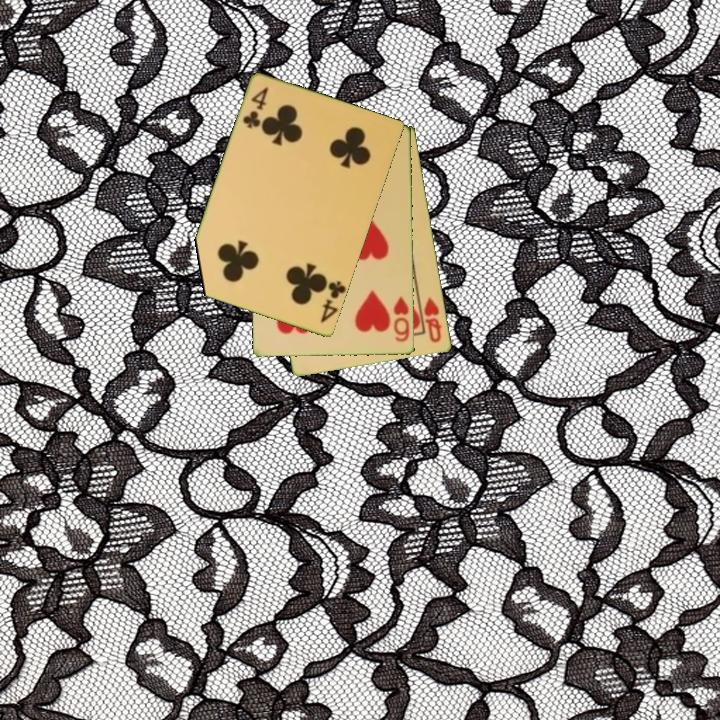4c: (239, 84, 271, 132), (317, 278, 348, 326)
6h: (390, 293, 413, 345)
Qh: (420, 294, 445, 346)
